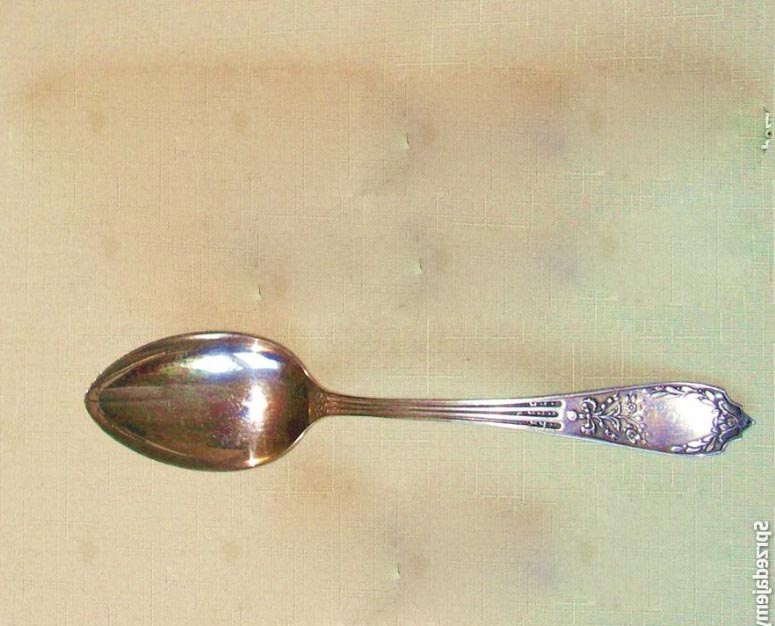Lyzka: (83, 328, 325, 475)
